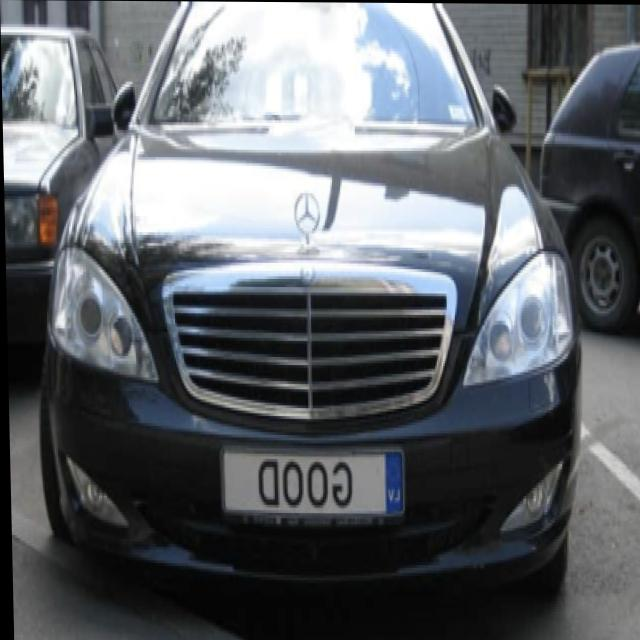licence: (214, 445, 413, 519)
